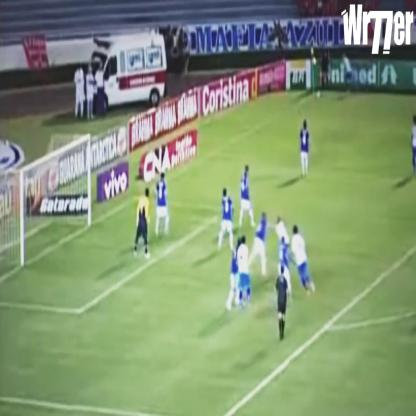corner kick: (290, 22, 349, 119)
